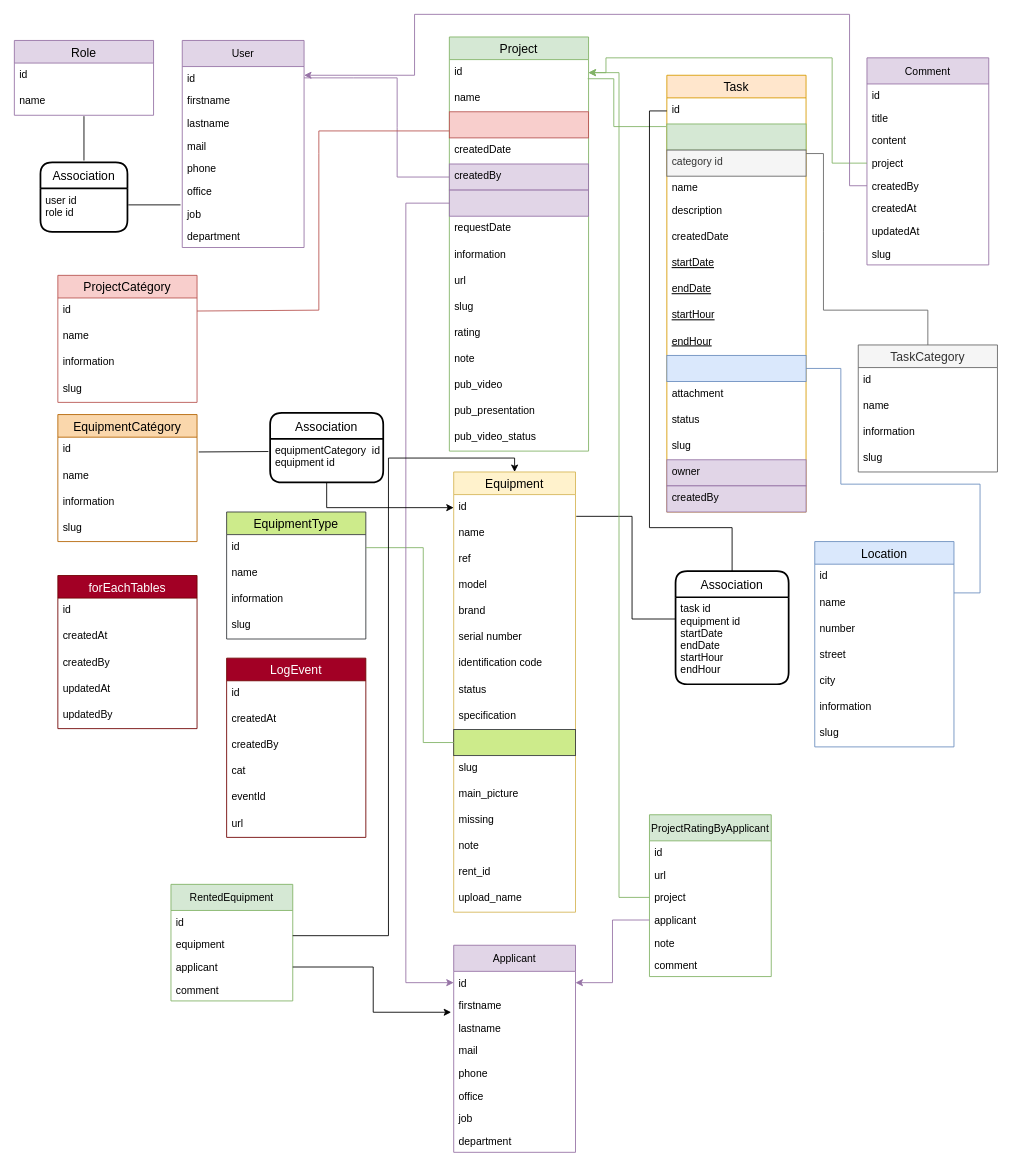
The diagram is 1012 pixels wide and 1167 high, and some of its shapes have lost their labels. The shapes that lost their labels are listed below. From the top down, each one's centre as x and y in pixels, then its label:
(518,124): project category id
(736,136): project id
(518,202): requestBy
(736,368): location id
(514,742): equipment type id
